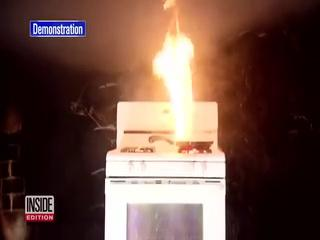Fire: (145, 1, 196, 144)
